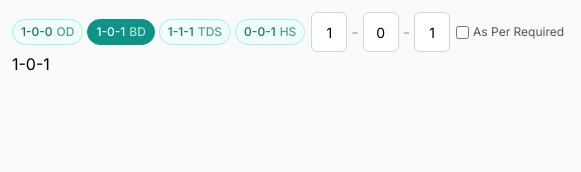
Test: FrequencyInput › replaces a clicked dose digit predictably without changing the frequency format
Step 1. Click the field named "Morning dose" → (329, 32), box [311,12,347,52]
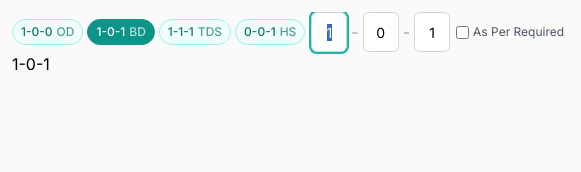
Step 2. Type keys "2"
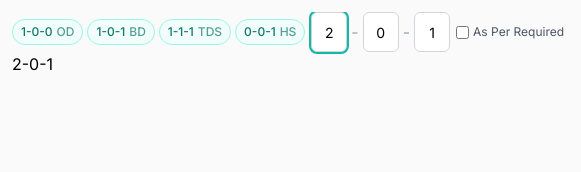
Check: the field named "Morning dose" holds "2", box [311,12,347,52]
Check: the text with test id "frequency-value" reads "2-0-1", box [12,54,53,74]
